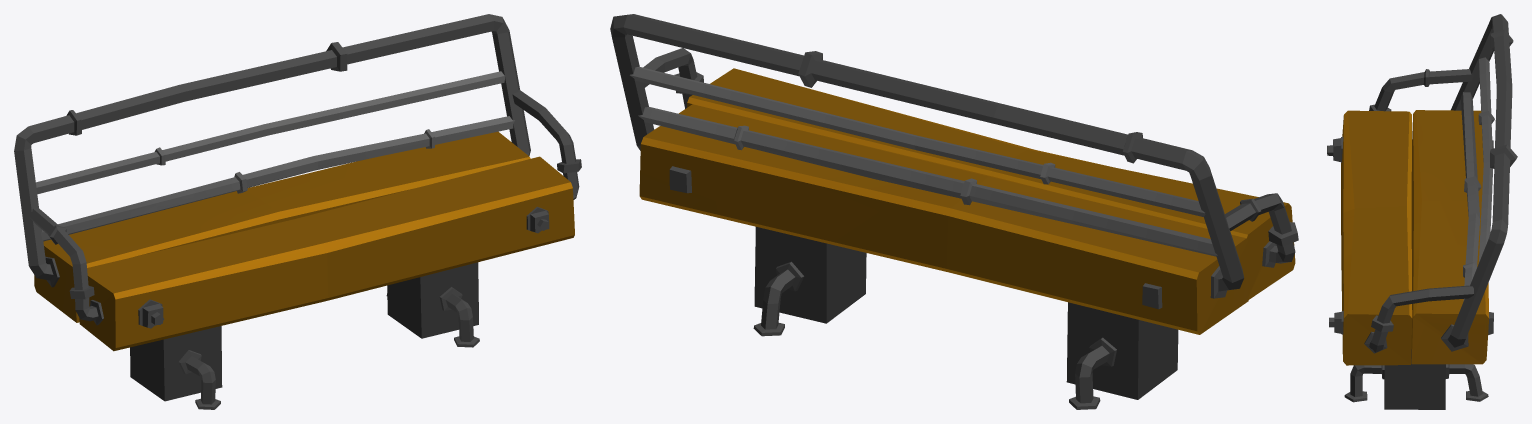
File: Steampunk_Bench.glb
3 renders of one model, left to right at view 1: azimuth 30°, elevation 25°; view 2: azimuth 150°, elevation 25°; view 3: azimuth 270°, elevation 25°, orthographic. The views are drawn at different scales.
Parts seen in each view (by area): view 1: Bench; view 2: Bench; view 3: Bench.
Boxes of the visible parts, box(x1,y1,x2,y2) form: Bench: box(14, 14, 581, 409); Bench: box(610, 14, 1298, 409); Bench: box(1327, 14, 1517, 409).
Size of what is drawn, in the model's own units: 2.38 by 1.12 by 0.8418.
Materials: 1 (1 with a texture image).
